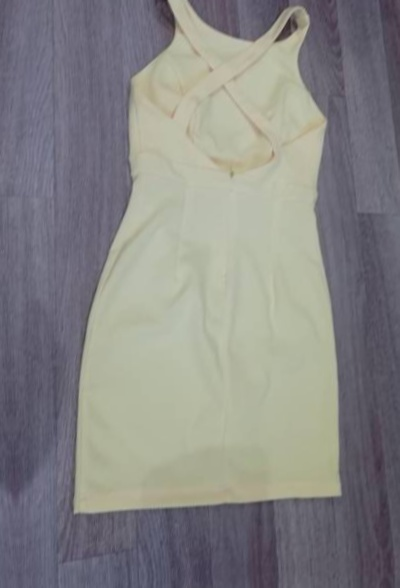Dress: (39, 0, 369, 544)
